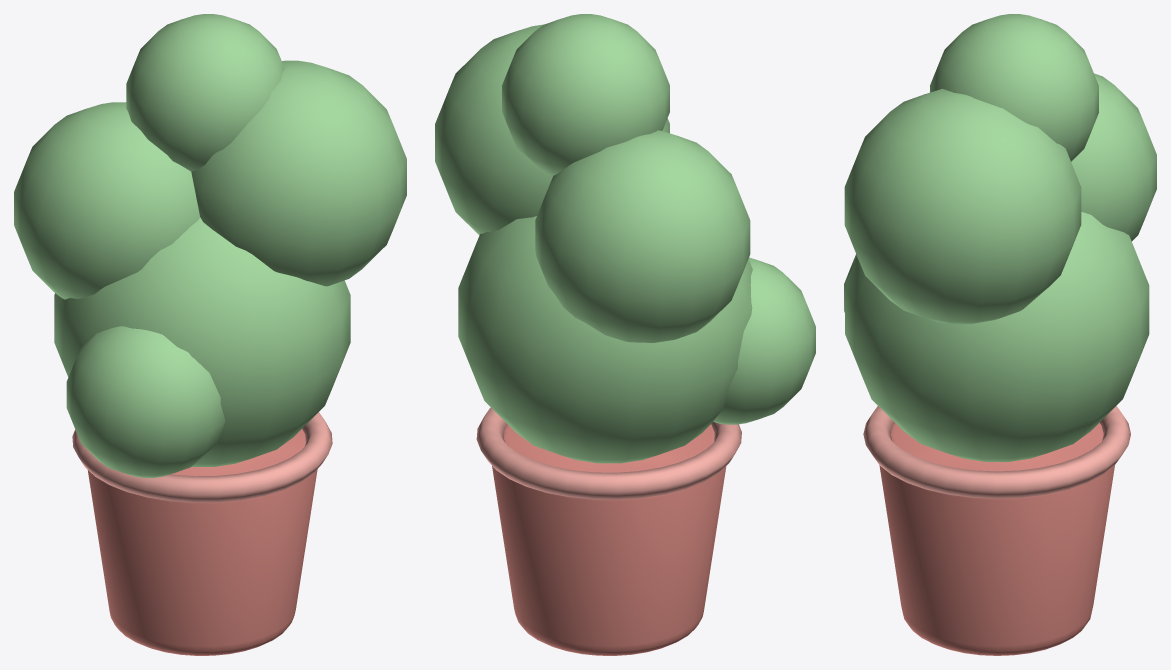
The model's file is cornerplant.glb.
3 views of the same model, side by side, from view 1: azimuth 30°, elevation 25°; view 2: azimuth 150°, elevation 25°; view 3: azimuth 270°, elevation 25° (orthographic). The views are drawn at different scales.
Parts seen in each view (by area): view 1: c9fd49a, pot, pot_rim; view 2: c9fd49a, pot, pot_rim; view 3: c9fd49a, pot, pot_rim.
Boxes of the visible parts, x1=… form: c9fd49a: x1=14, y1=14, x2=406, y2=477; pot: x1=87, y1=429, x2=317, y2=655; pot_rim: x1=72, y1=412, x2=332, y2=502; c9fd49a: x1=435, y1=14, x2=815, y2=463; pot: x1=492, y1=424, x2=726, y2=655; pot_rim: x1=476, y1=407, x2=741, y2=499; c9fd49a: x1=844, y1=14, x2=1156, y2=461; pot: x1=879, y1=423, x2=1114, y2=655; pot_rim: x1=863, y1=406, x2=1130, y2=498.
Bounding box in the file's own units: 1.13 × 1.95 × 0.9113.
